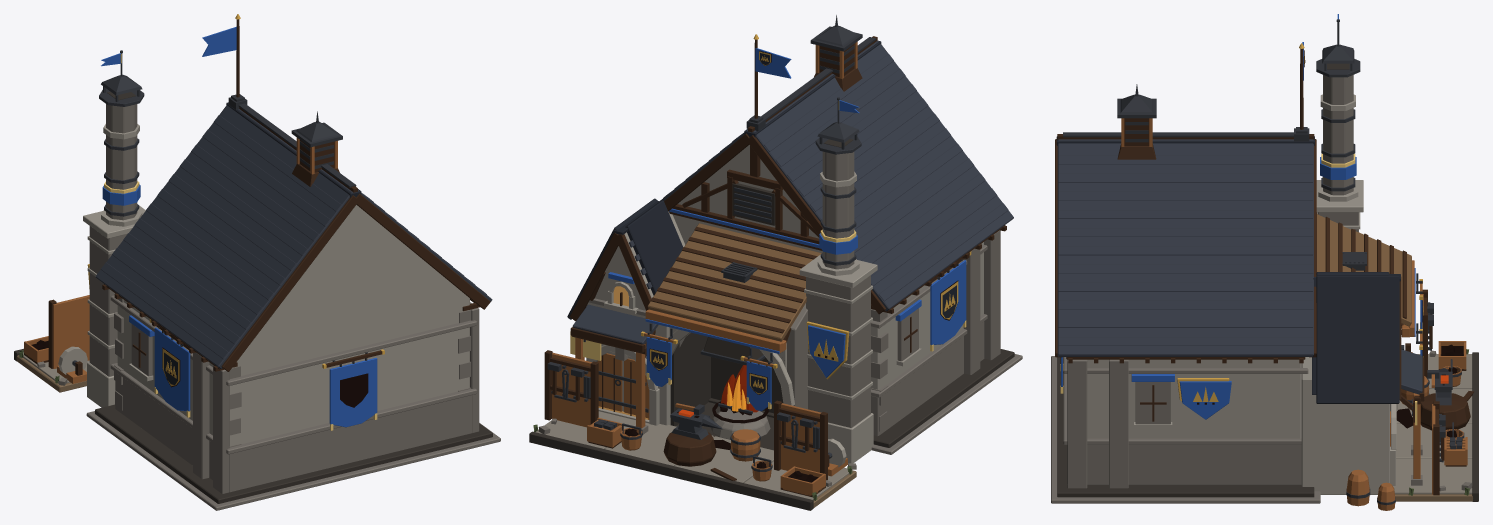
Rendered from 铁匠铺_手游_近.glb.
3 renders of one model, left to right at view 1: azimuth 30°, elevation 25°; view 2: azimuth 150°, elevation 25°; view 3: azimuth 270°, elevation 25°, orthographic. The views are drawn at different scales.
Parts seen in each view (by area): view 1: BS-主体, BS-team, BS-自发光; view 2: BS-主体, BS-team, BS-自发光, BS-team_trim; view 3: BS-主体, BS-team, BS-自发光.
Boxes of the visible parts, box(x1,y1,x2,y2) form: BS-主体: box(14, 14, 500, 510); BS-team: box(101, 26, 377, 427); BS-自发光: box(31, 340, 368, 407); BS-主体: box(529, 15, 1022, 510); BS-team: box(608, 48, 966, 411); BS-自发光: box(598, 51, 958, 482); BS-team_trim: box(570, 101, 966, 409); BS-主体: box(1051, 19, 1478, 510); BS-team: box(1061, 14, 1422, 419); BS-自发光: box(1060, 50, 1463, 437).
Bounding box in the file's own units: 9.93 × 11.83 × 11.81.
Materials: 4 (2 with a texture image).
